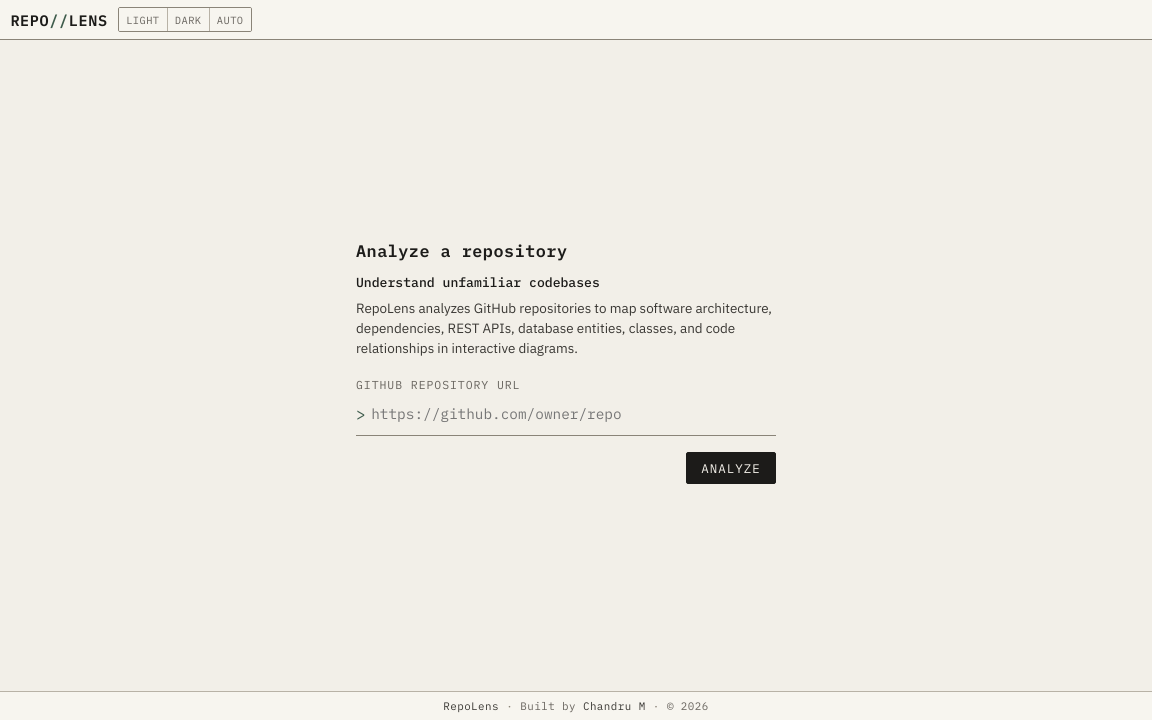
Test case: landing analysis › shows the QUEUED job status and the submitted URL
Step 1. Type "https://github.com/octocat/Hello-World" into the field labelled "GitHub repository URL" → x=574, y=414, box [371, 399, 776, 429]
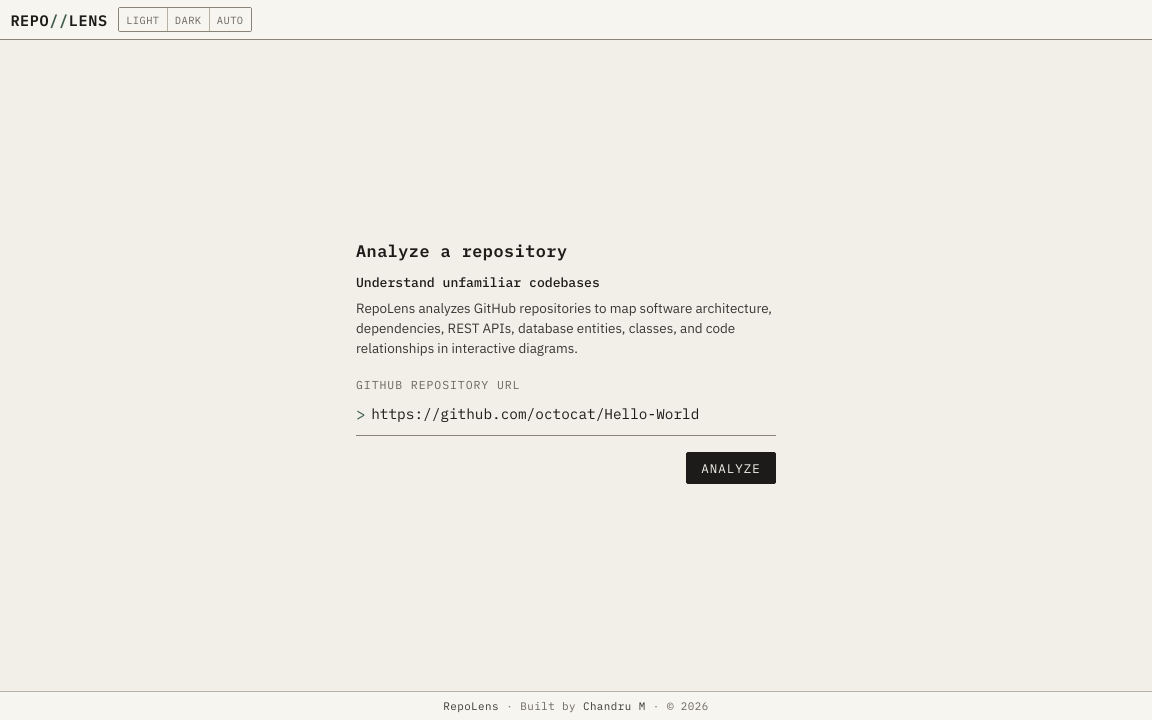
Step 2. Click the button "Analyze" → x=731, y=468, box [686, 452, 776, 484]
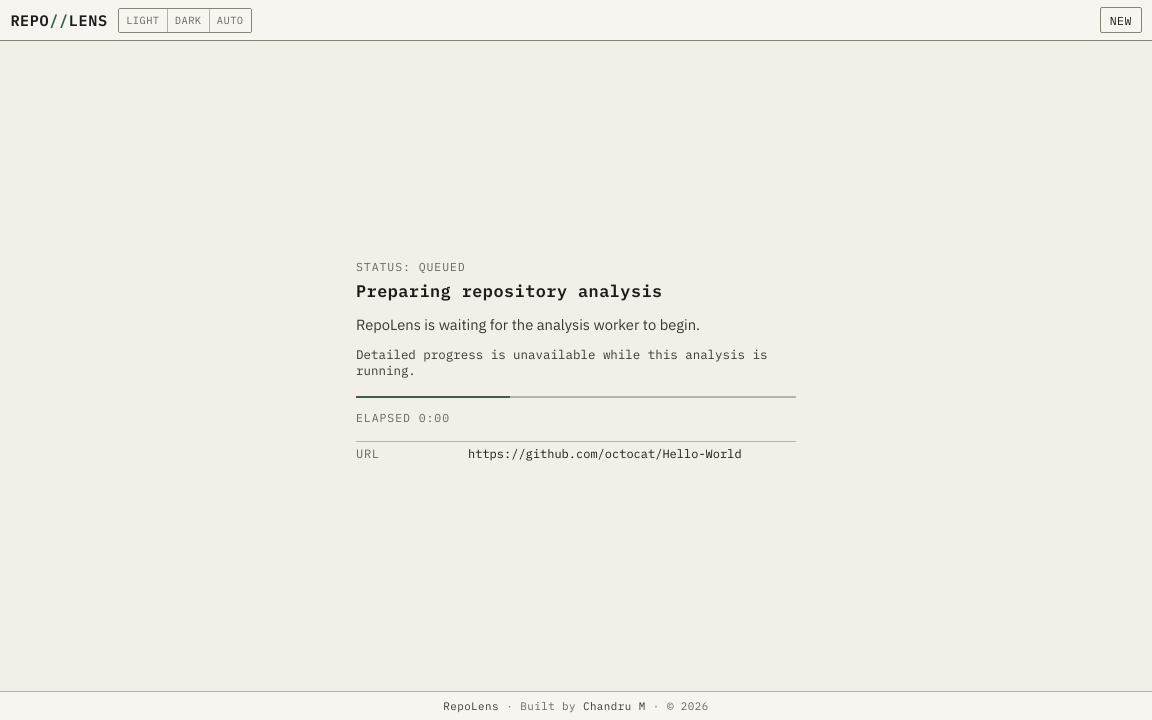
Result: the text "Status: QUEUED" is shown at [356, 259, 466, 274]
Result: the heading "Preparing repository analysis" is shown at [356, 280, 663, 302]
Result: the text "RepoLens is waiting for the analysis worker to begin." is shown at [356, 314, 700, 334]
